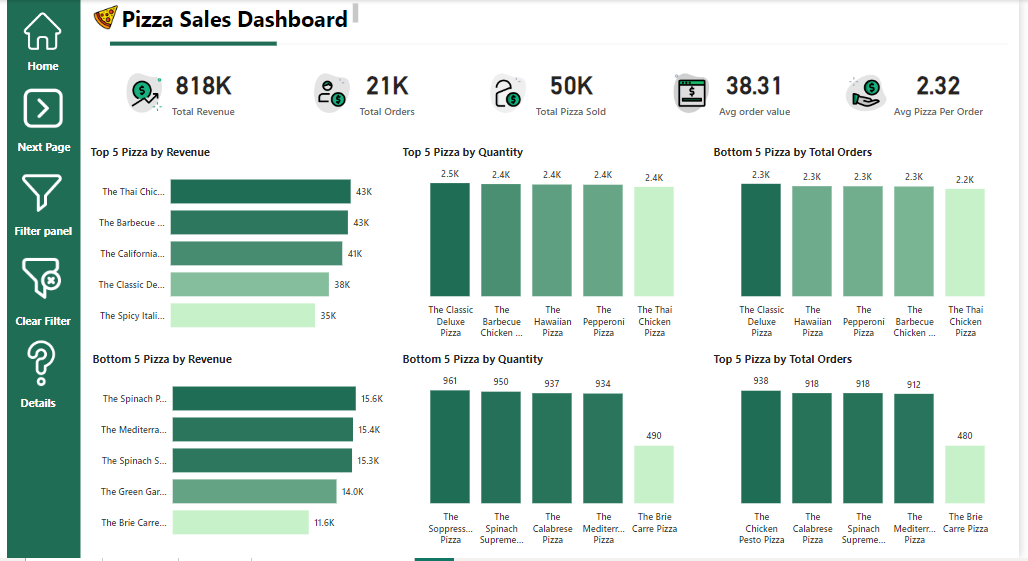

Layout of this report page (visuals, bound fields, positions):
{"tool":"powerbi","page":{"name":"Best seller/worst seller","canvas":[1500,820],"ordinal":3},"visuals":[{"type":"clusteredBarChart","title":"Bottom 5 Pizza by Revenue","fields":{"Category":["pizza_sales.pizza_name"],"Y":["pizza_sales.Total Revenue"]},"box":[132.4,516.5,440.7,293.8],"z":0},{"type":"clusteredBarChart","title":"Top 5 Pizza by Revenue","fields":{"Category":["pizza_sales.pizza_name"],"Y":["pizza_sales.Total Revenue"]},"box":[129.1,211.5,440.7,293.8],"z":1000},{"type":"cardVisual","fields":{"Data":["pizza_sales.Total Revenue","pizza_sales.Total Orders","pizza_sales.Total Pizza Sold","pizza_sales.Avg order value","pizza_sales.Avg Pizza Per Order"]},"box":[129.1,74.3,1355.9,127.5],"z":2000},{"type":"image","box":[129.1,3.2,54.9,45.2],"z":3000},{"type":"shape","box":[11.3,0,108.1,820],"z":4000},{"type":"textbox","box":[37.1,80.7,79.1,37.1],"z":5000},{"type":"textbox","box":[25.8,576.3,79.1,35.5],"z":6000},{"type":"textbox","box":[19.4,455.2,117.8,37.1],"z":7000},{"type":"textbox","box":[22.6,200.2,114.6,37.1],"z":8000},{"type":"textbox","box":[17.8,322.8,117.8,37.1],"z":9000},{"type":"textbox","box":[174.2,0,358.1,45.2],"z":10000},{"type":"shape","box":[174.3,46.8,1307.5,35.5],"z":11000},{"type":"shape","box":[163,45.2,245.4,37.1],"z":12000},{"type":"image","box":[25.8,12.9,74.3,64.6],"z":13000},{"type":"image","box":[25.8,117.8,77.5,83.9],"z":14000},{"type":"image","box":[24.2,237.3,79.1,90.4],"z":15000},{"type":"image","box":[19.4,363.2,83.9,92],"z":16000},{"type":"image","box":[24.2,492.3,77.5,83.9],"z":17000},{"type":"clusteredColumnChart","title":"Top 5 Pizza by Quantity","fields":{"Category":["pizza_sales.pizza_name"],"Y":["pizza_sales.Total Pizza Sold"]},"box":[587.6,211.5,440.7,293.8],"z":19000},{"type":"clusteredColumnChart","title":"Bottom 5 Pizza by Quantity","fields":{"Category":["pizza_sales.pizza_name"],"Y":["pizza_sales.Total Pizza Sold"]},"box":[587.6,516.5,440.7,293.8],"z":20000},{"type":"clusteredColumnChart","title":"Bottom 5 Pizza by Total Orders","fields":{"Category":["pizza_sales.pizza_name"],"Y":["pizza_sales.Total Orders"]},"box":[1044.4,211.5,440.7,293.8],"z":21000},{"type":"clusteredColumnChart","title":"Top 5 Pizza by Total  Orders","fields":{"Category":["pizza_sales.pizza_name"],"Y":["pizza_sales.Total Orders"]},"box":[1044.4,516.5,440.7,293.8],"z":22000}]}

Visuals, with their boxes on the page's 1500x820 design canvas (x1, y1, x2, y2). These are canvas units, not pixel positions in the 1028x561 screenshot, which may show the page scaled, cropped or inside an application window:
"Bottom 5 Pizza by Revenue" clusteredBarChart: (x1=132, y1=516, x2=573, y2=810)
"Top 5 Pizza by Revenue" clusteredBarChart: (x1=129, y1=212, x2=570, y2=505)
cardVisual - pizza_sales.Total Revenue x pizza_sales.Total Orders: (x1=129, y1=74, x2=1485, y2=202)
image: (x1=129, y1=3, x2=184, y2=48)
shape: (x1=11, y1=0, x2=119, y2=820)
textbox: (x1=37, y1=81, x2=116, y2=118)
textbox: (x1=26, y1=576, x2=105, y2=612)
textbox: (x1=19, y1=455, x2=137, y2=492)
textbox: (x1=23, y1=200, x2=137, y2=237)
textbox: (x1=18, y1=323, x2=136, y2=360)
textbox: (x1=174, y1=0, x2=532, y2=45)
shape: (x1=174, y1=47, x2=1482, y2=82)
shape: (x1=163, y1=45, x2=408, y2=82)
image: (x1=26, y1=13, x2=100, y2=78)
image: (x1=26, y1=118, x2=103, y2=202)
image: (x1=24, y1=237, x2=103, y2=328)
image: (x1=19, y1=363, x2=103, y2=455)
image: (x1=24, y1=492, x2=102, y2=576)
"Top 5 Pizza by Quantity" clusteredColumnChart: (x1=588, y1=212, x2=1028, y2=505)
"Bottom 5 Pizza by Quantity" clusteredColumnChart: (x1=588, y1=516, x2=1028, y2=810)
"Bottom 5 Pizza by Total Orders" clusteredColumnChart: (x1=1044, y1=212, x2=1485, y2=505)
"Top 5 Pizza by Total  Orders" clusteredColumnChart: (x1=1044, y1=516, x2=1485, y2=810)
